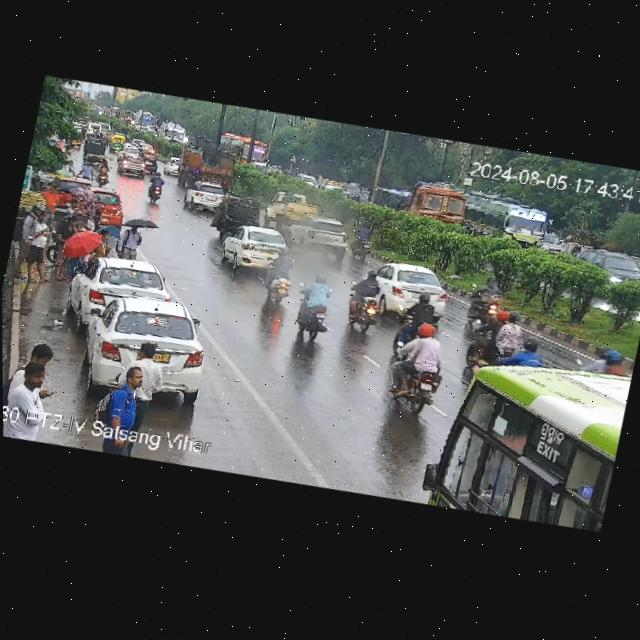bus: (428, 339, 633, 540), (460, 186, 555, 252), (157, 118, 191, 147), (129, 108, 160, 129)
car: (63, 279, 220, 404), (68, 246, 177, 328), (366, 255, 455, 321), (216, 220, 291, 277), (568, 239, 640, 288), (287, 209, 353, 262), (211, 192, 267, 241), (185, 178, 236, 215), (113, 153, 154, 181), (82, 133, 113, 165), (538, 231, 566, 256), (137, 148, 161, 172), (107, 130, 129, 154), (161, 154, 182, 177), (342, 179, 365, 200), (318, 180, 345, 197), (296, 170, 320, 189), (116, 143, 139, 162), (130, 136, 148, 149), (138, 142, 155, 153)
motorcycle: (384, 318, 450, 415), (288, 275, 334, 346), (341, 268, 388, 333), (462, 268, 505, 329), (575, 340, 635, 381), (257, 247, 298, 304), (499, 334, 550, 373), (399, 289, 441, 330), (348, 219, 375, 262), (143, 173, 168, 205), (93, 156, 112, 188), (92, 129, 102, 138), (136, 144, 143, 153), (124, 138, 131, 147)
person: (94, 364, 161, 438), (3, 361, 62, 425), (121, 338, 173, 402), (20, 212, 63, 284), (115, 218, 147, 261), (59, 154, 94, 182), (94, 225, 118, 259)
truck: (365, 171, 468, 233), (177, 143, 243, 195), (220, 130, 277, 173), (261, 187, 311, 233), (112, 107, 134, 126)
